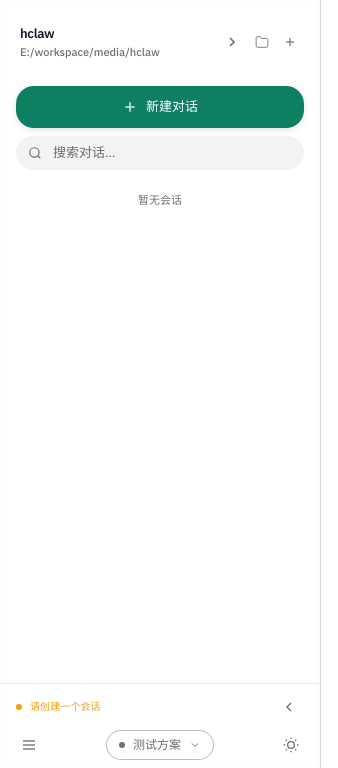
SidebarGearMenu 两级抽屉 › T15: hamburger click 打开一级抽屉，含 7 节点（5 group + 2 direct）
This screenshot has width=338, height=768.
What coordinates should you click on to do the following:
click the button named "功能菜单"
I would click on:
 (29, 745)
Its box is [16,732,42,758].
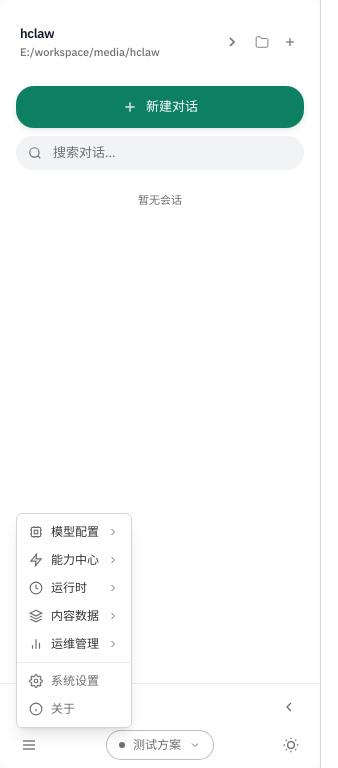
expect the element showing "模型配置 能力中心 运行时 内容数据 运维管理 系统设置 关于" is shown: met, box [16,513,132,728]
